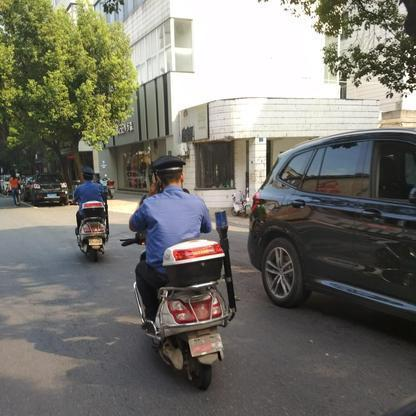target: (119, 155, 247, 390), (73, 166, 112, 261)
